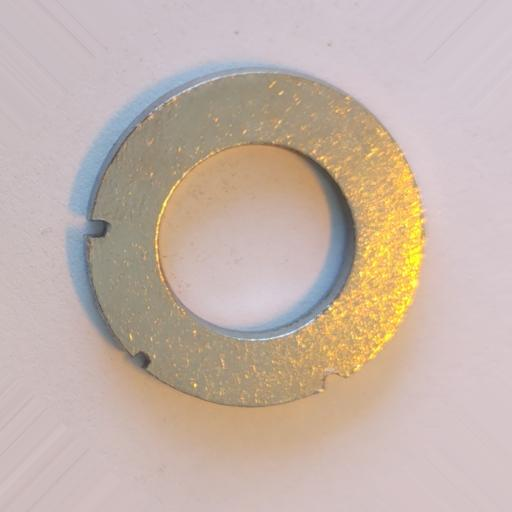burr: (84, 217, 110, 239), (323, 372, 348, 391), (131, 350, 153, 371)
